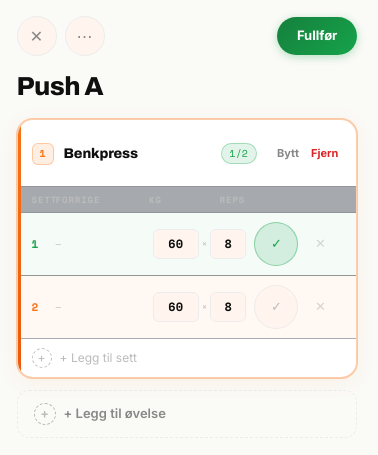
Test: WorkoutPage › ✕ med loggede sett: første klikk viser bekreft/avbryt, ikke discardWorkout ennå
Click the button named "Forkast økt": (37, 36) x1=17 y1=16 x2=57 y2=56
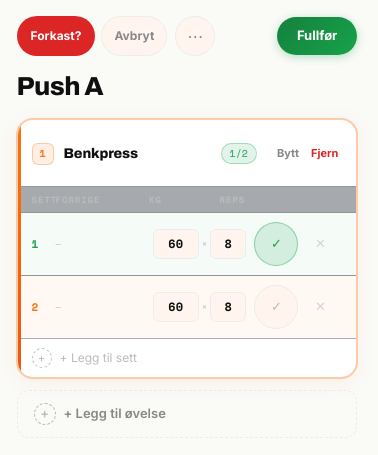
Expected: the button with aria-label "Bekreft forkast" is shown, x1=17 y1=16 x2=96 y2=56
